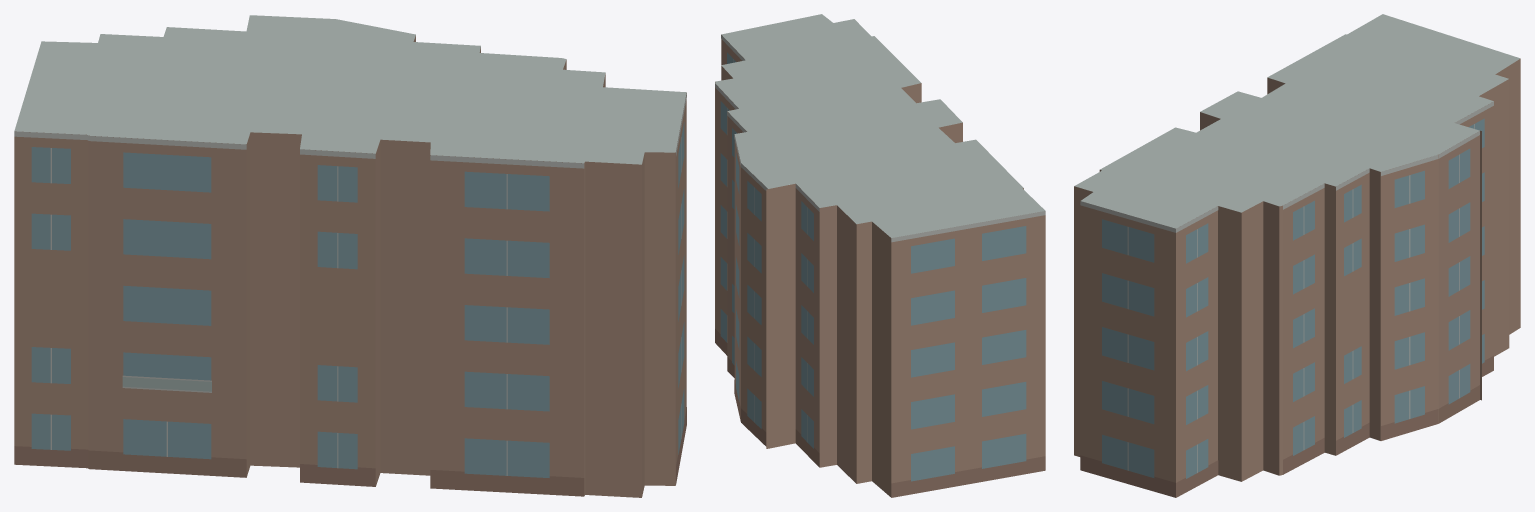
File: survey-upis-32776185.glb
3 renders of one model, left to right at view 1: azimuth 30°, elevation 25°; view 2: azimuth 150°, elevation 25°; view 3: azimuth 270°, elevation 25°, orthographic. The views are drawn at different scales.
Parts seen in each view (by area): view 1: survey-upis-32776185.tmp; view 2: survey-upis-32776185.tmp; view 3: survey-upis-32776185.tmp.
Part boxes in pixels (bbox=[...]): survey-upis-32776185.tmp: bbox=[14, 15, 686, 497]; survey-upis-32776185.tmp: bbox=[715, 14, 1045, 497]; survey-upis-32776185.tmp: bbox=[1074, 14, 1520, 497].
Bounding box in the file's own units: 26.08 × 15.25 × 22.93.
